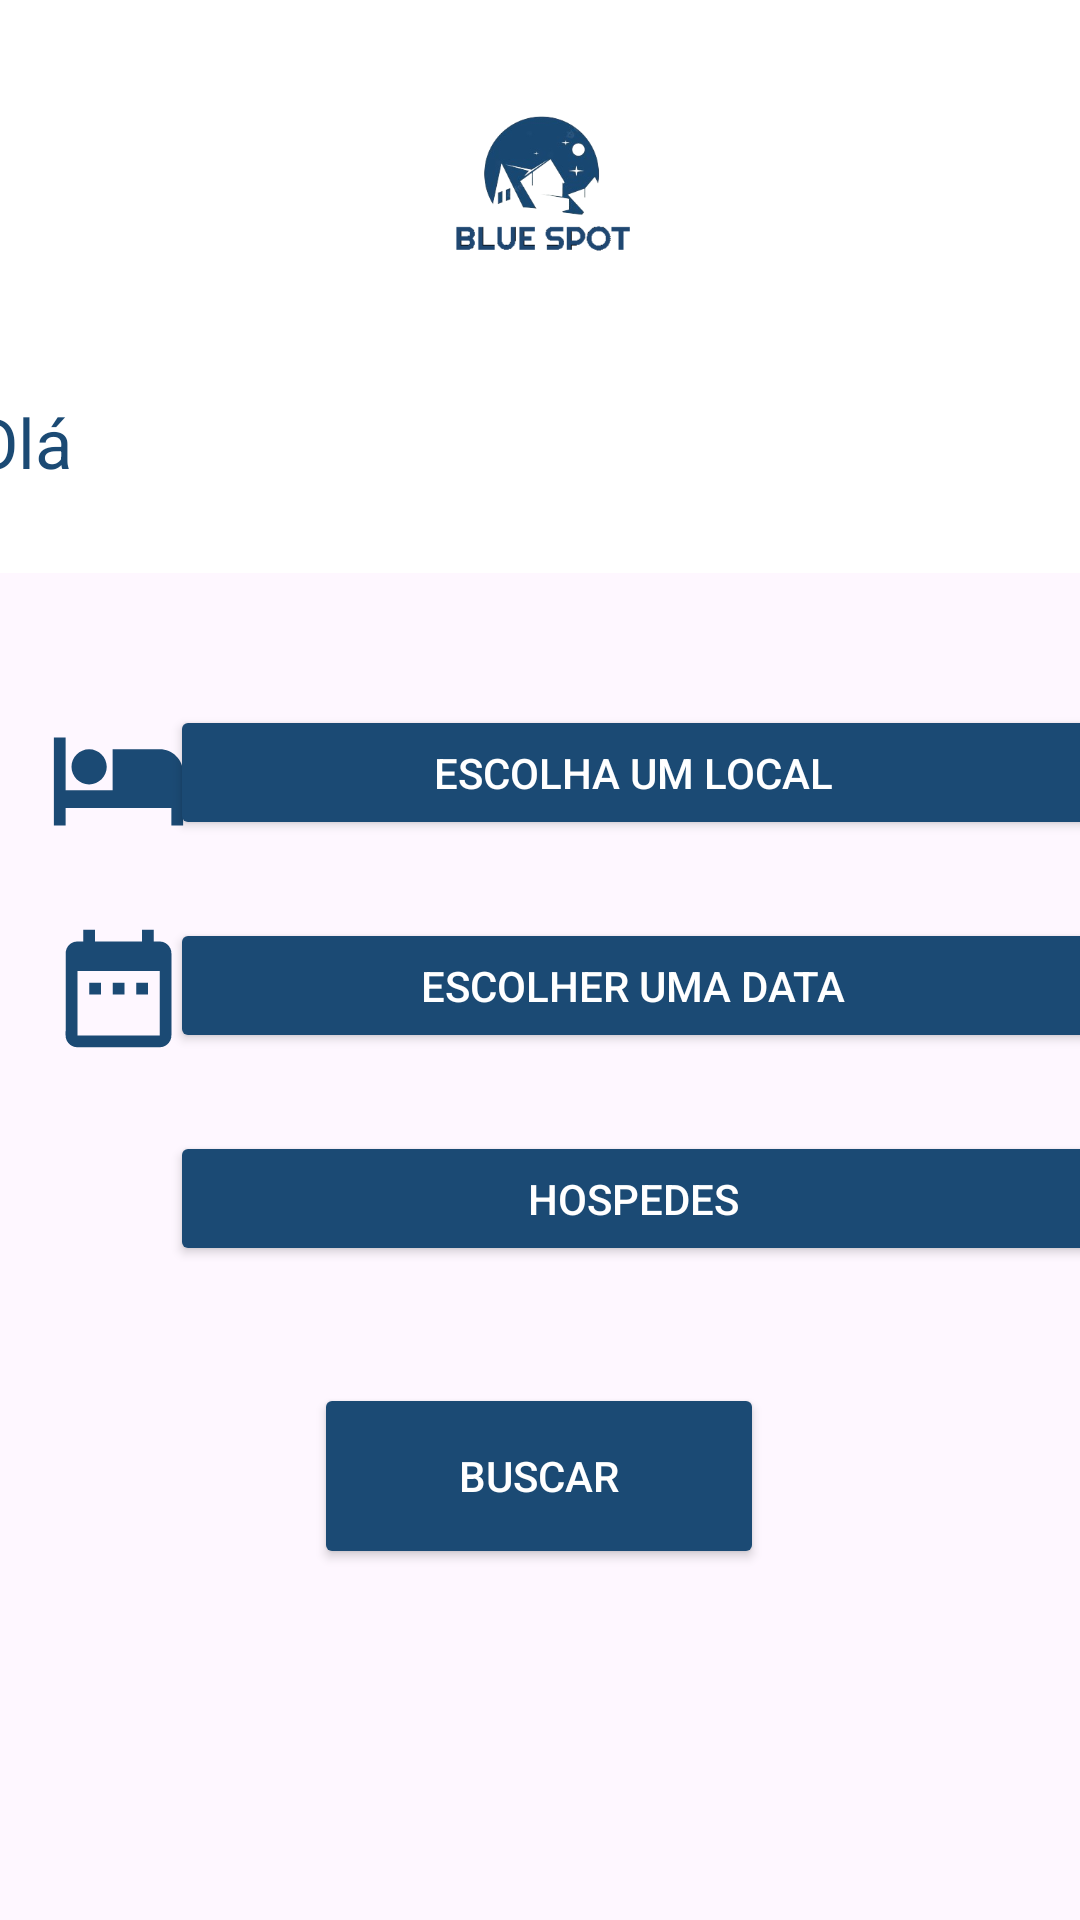

Named icons in this screenshot (1080px×1920px) and their centers, point (x, y):
date: point (118, 988)
hotel: point (121, 774)
